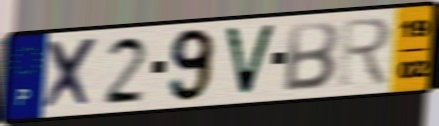2: (99, 34, 152, 104)
9: (166, 27, 219, 104)
B: (280, 19, 341, 93)
R: (336, 15, 394, 89)
V: (221, 22, 279, 98)
X: (41, 35, 101, 113)
